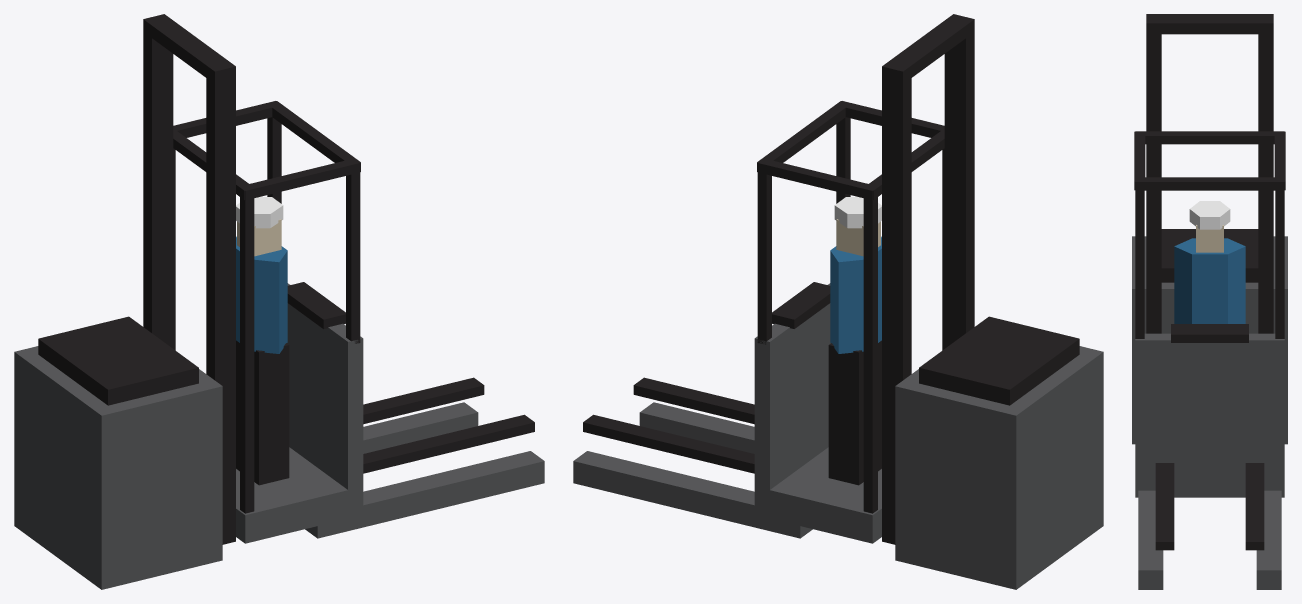
Rendered from orderverzameltruck.glb.
The picture shows the model from 3 angles, left to right: view 1: azimuth 30°, elevation 25°; view 2: azimuth 150°, elevation 25°; view 3: azimuth 270°, elevation 25°; orthographic projection. The views are drawn at different scales.
Parts seen in each view (by area): view 1: romp, platform, mast, bestuurder; view 2: romp, platform, mast, bestuurder; view 3: platform, mast, romp, bestuurder.
Boxes of the visible parts, <box> form: romp: <box>14,316,544,589</box>; platform: <box>173,101,534,543</box>; mast: <box>143,14,235,544</box>; bestuurder: <box>236,197,289,485</box>; romp: <box>573,316,1103,589</box>; platform: <box>583,101,944,543</box>; mast: <box>882,14,974,544</box>; bestuurder: <box>828,197,881,485</box>; platform: <box>1134,131,1285,550</box>; mast: <box>1146,14,1273,333</box>; romp: <box>1132,229,1287,589</box>; bestuurder: <box>1174,201,1245,323</box>.
Size of the model in its own units: 2.95 by 3.08 by 1.
